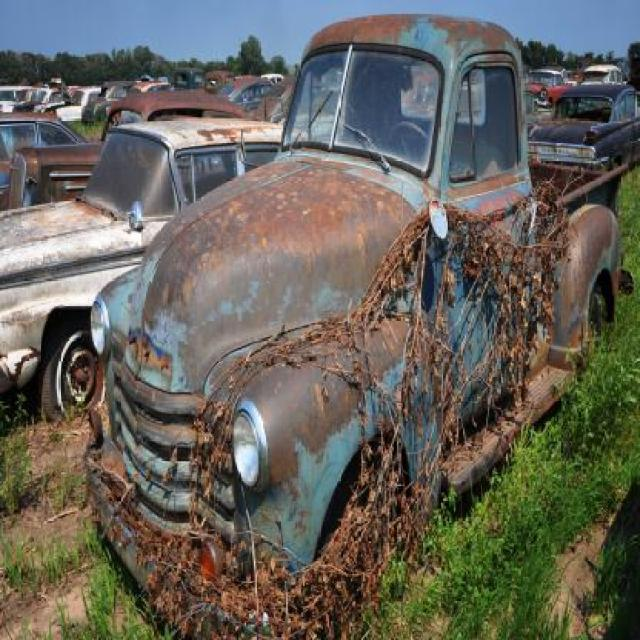corrosion: (92, 12, 630, 640)
